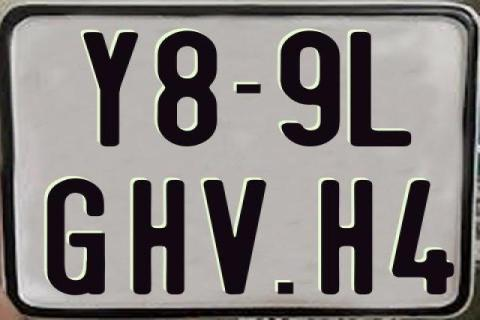0: (157, 30, 221, 148), (389, 178, 453, 296), (280, 28, 341, 149)
G: (47, 178, 105, 300)
H: (320, 180, 378, 296), (130, 180, 184, 296)
L: (347, 31, 412, 149)
V: (200, 178, 270, 292)
Y: (80, 29, 136, 149)
